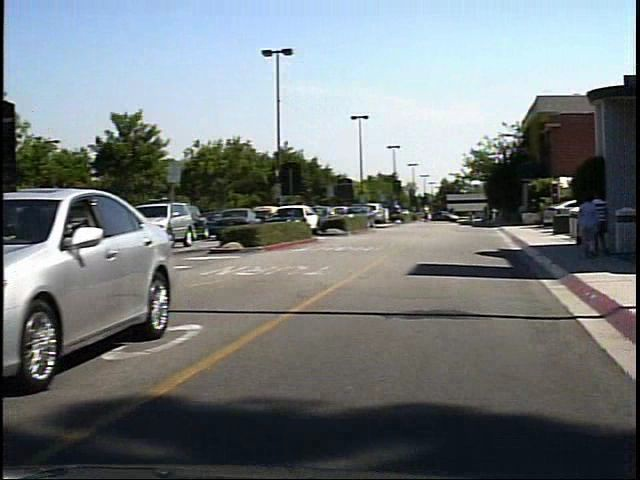person: (584, 191, 610, 265), (600, 191, 620, 257), (430, 204, 441, 224)
